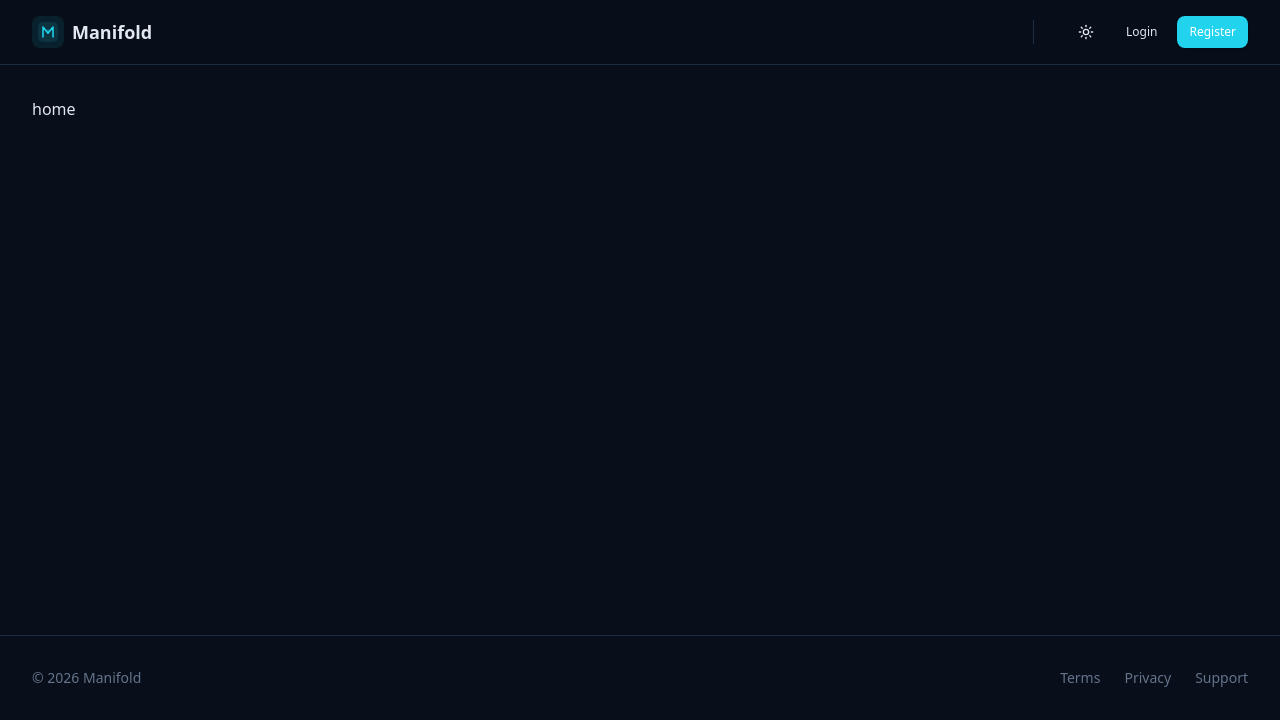
Test: Layout theme preference › toggle from system exits system and flips effective theme
Click the button named "Theme: system (dark)" at (1086, 32), box [1066,12,1106,52]
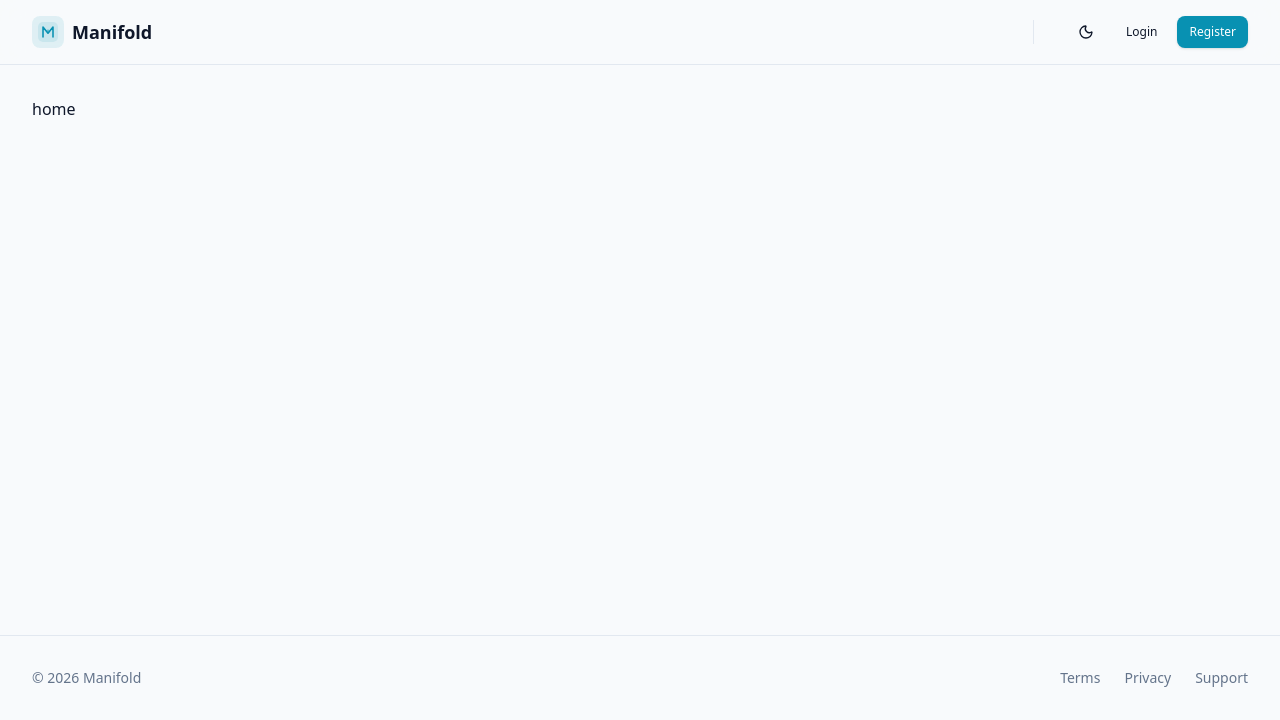
Check: the button named "Theme: light" is shown, box [1066,12,1106,52]
